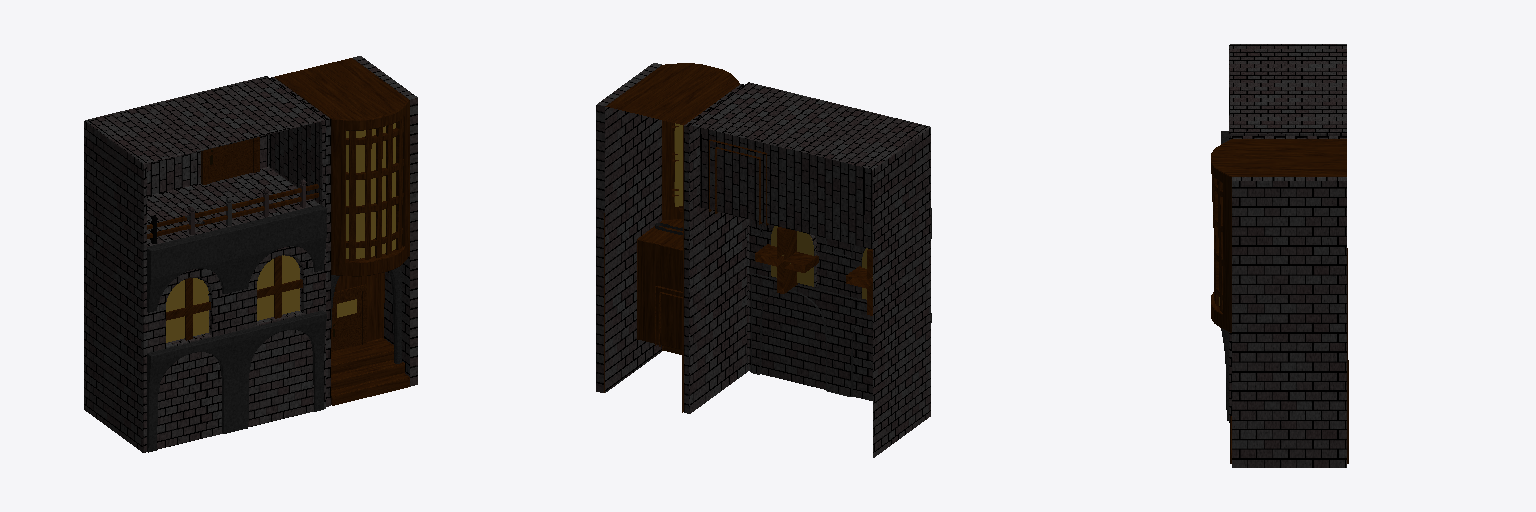
3 renders of one model, left to right at view 1: azimuth 30°, elevation 25°; view 2: azimuth 150°, elevation 25°; view 3: azimuth 270°, elevation 25°, orthographic.
Visible parts, largest first — view 1: sub1.004, sub4.001, door_bake.011, door_bake.010; view 2: sub1.004, sub4.001, door_bake.010; view 3: sub4.001, sub1.004.
Part boxes in pixels (x1,y1,x2,y2): sub1.004: (84, 76, 326, 452); sub4.001: (270, 56, 417, 406); door_bake.011: (331, 284, 366, 351); door_bake.010: (201, 137, 259, 184); sub1.004: (689, 82, 931, 457); sub4.001: (596, 63, 746, 413); door_bake.010: (709, 139, 768, 225); sub4.001: (1211, 136, 1348, 467); sub1.004: (1221, 44, 1346, 422).
Bounding box in the file's own units: 16.05 × 16.08 × 6.94.
4 materials, 3 textured.